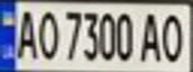0: (115, 8, 139, 62), (97, 8, 118, 63)
3: (78, 7, 100, 62)
7: (60, 7, 81, 62)
A: (136, 8, 166, 63), (12, 6, 39, 60)
O: (157, 9, 190, 63), (33, 6, 60, 61)
